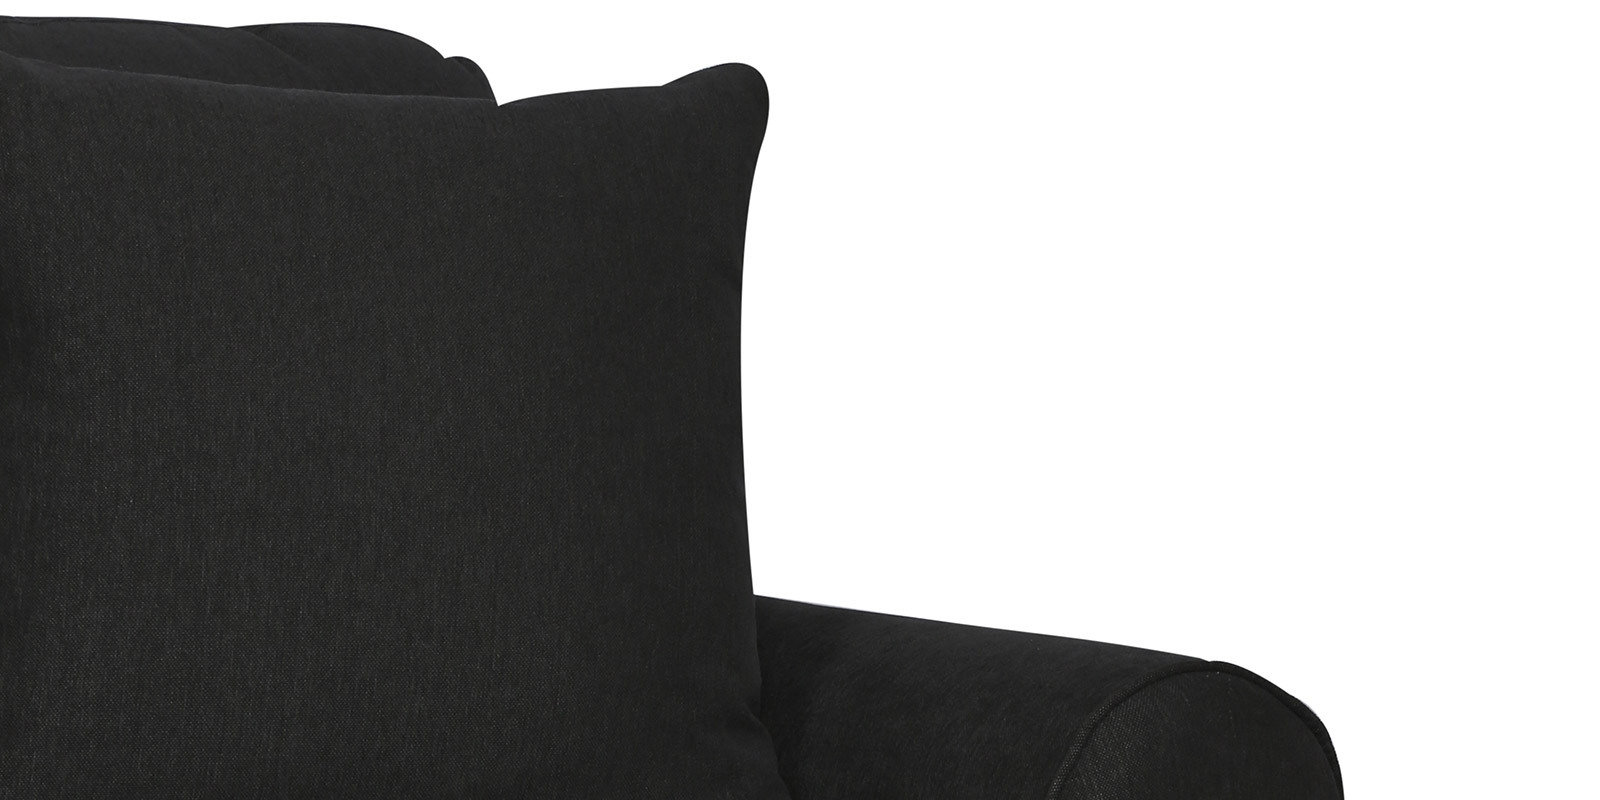Madeira Three Seater Sofa in Charcoal Grey Colour by CasaCraft: (3, 16, 1347, 800)
